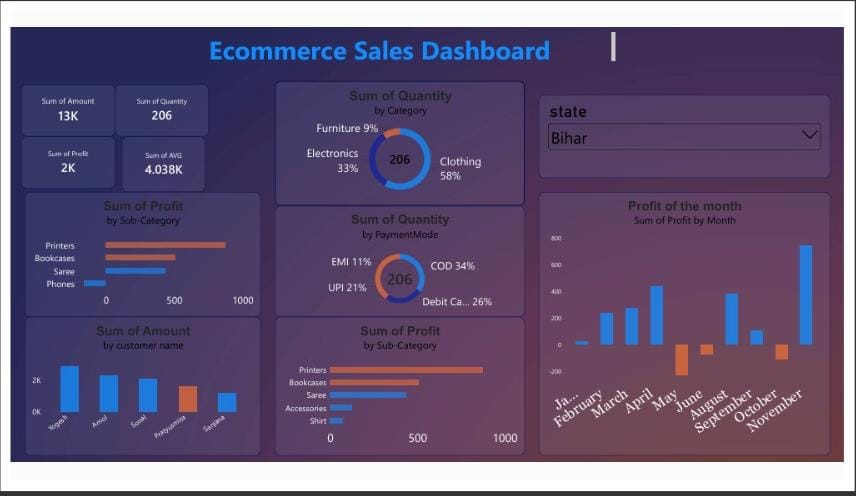

The page's visual inventory and layout, read from the dashboard file:
{"tool":"powerbi","page":{"name":"Page 1","canvas":[1920,1080],"ordinal":0},"visuals":[{"type":"textbox","box":[456,48,936,72],"z":0},{"type":"columnChart","title":"Profit of the month","fields":{"Category":["Orders.order date.Variation.Date Hierarchy.Month"],"Y":["Sum(Details.Profit)"]},"box":[1216,416,672,608],"z":1000},{"type":"barChart","fields":{"Category":["Details.Sub-Category"],"Y":["Sum(Details.Profit)"]},"box":[608,704,576,320],"z":2000},{"type":"donutChart","fields":{"Category":["Details.Category"],"Y":["Sum(Details.Quantity)"]},"box":[608,160,576,288],"z":3000},{"type":"donutChart","fields":{"Y":["Sum(Details.Quantity)"],"Category":["Details.PaymentMode"]},"box":[608,448,576,256],"z":4000},{"type":"cardVisual","fields":{"Data":["Sum(Details.Amount)"]},"box":[24,168,216,120],"z":5000},{"type":"cardVisual","fields":{"Data":["Sum(Details.Quantity)"]},"box":[240,168,216,120],"z":6000},{"type":"cardVisual","fields":{"Data":["Sum(Details.Profit)"]},"box":[24,288,216,120],"z":7000},{"type":"cardVisual","fields":{"Data":["Sum(Details.AVG)"]},"box":[256,288,192,128],"z":8000},{"type":"barChart","fields":{"Category":["Details.Sub-Category"],"Y":["Sum(Details.Profit)"]},"box":[32,416,544,288],"z":9000},{"type":"columnChart","fields":{"Category":["Orders.customer name"],"Y":["Sum(Details.Amount)"]},"box":[32,704,544,320],"z":10000},{"type":"slicer","fields":{"Values":["Orders.state"]},"box":[1216,192,672,192],"z":11000}]}

Visuals, with their boxes in screenshot pixels (x1, y1, x2, y2), scaled from the page's 1920x1080 canvas onto the 856x496 screenshot:
textbox: select_region(203, 22, 621, 55)
"Profit of the month" columnChart: select_region(542, 191, 842, 470)
barChart - Details.Sub-Category x Sum(Details.Profit): select_region(271, 323, 528, 470)
donutChart - Details.Category x Sum(Details.Quantity): select_region(271, 73, 528, 206)
donutChart - Sum(Details.Quantity) x Details.PaymentMode: select_region(271, 206, 528, 323)
cardVisual - Sum(Details.Amount): select_region(11, 77, 107, 132)
cardVisual - Sum(Details.Quantity): select_region(107, 77, 203, 132)
cardVisual - Sum(Details.Profit): select_region(11, 132, 107, 187)
cardVisual - Sum(Details.AVG): select_region(114, 132, 200, 191)
barChart - Details.Sub-Category x Sum(Details.Profit): select_region(14, 191, 257, 323)
columnChart - Orders.customer name x Sum(Details.Amount): select_region(14, 323, 257, 470)
slicer - Orders.state: select_region(542, 88, 842, 176)
